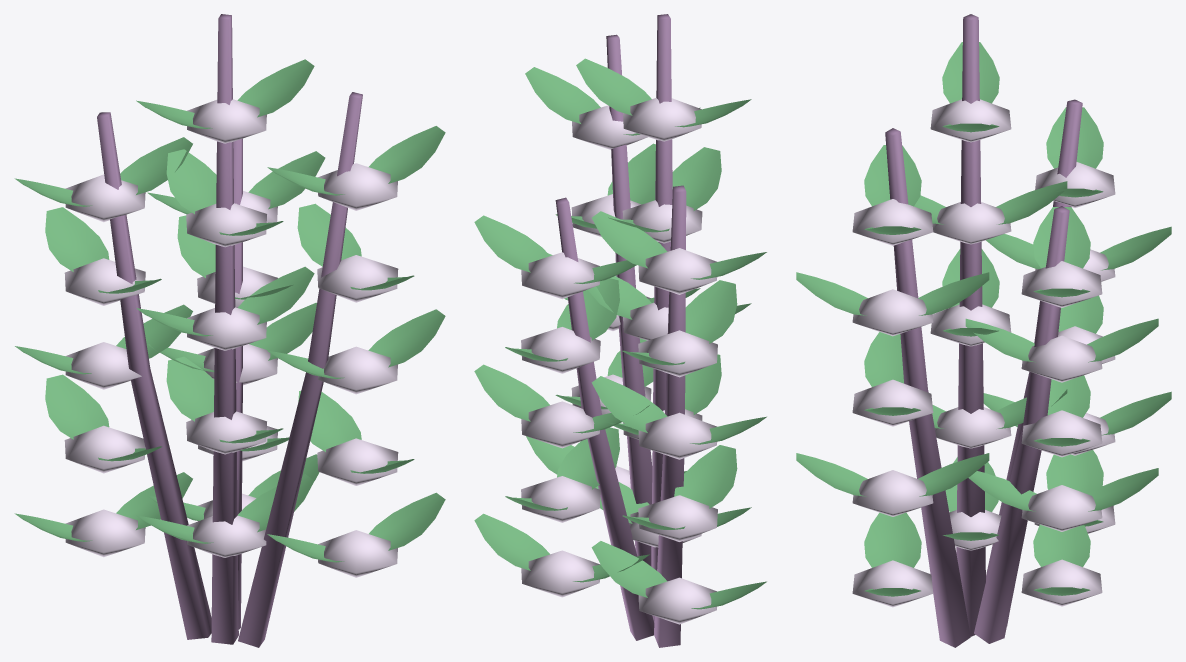
File: flower_wild_mint.glb
The picture shows the model from 3 angles, left to right: view 1: azimuth 30°, elevation 25°; view 2: azimuth 150°, elevation 25°; view 3: azimuth 270°, elevation 25°; orthographic projection.
Parts seen in each view (by area): view 1: Flora_Wild_Mint; view 2: Flora_Wild_Mint; view 3: Flora_Wild_Mint.
Boxes of the visible parts, bbox=[...] form: Flora_Wild_Mint: bbox=[14, 14, 445, 647]; Flora_Wild_Mint: bbox=[474, 14, 766, 647]; Flora_Wild_Mint: bbox=[796, 14, 1171, 647].
Bounding box in the file's own units: 0.2883 × 0.5222 × 0.2883.
